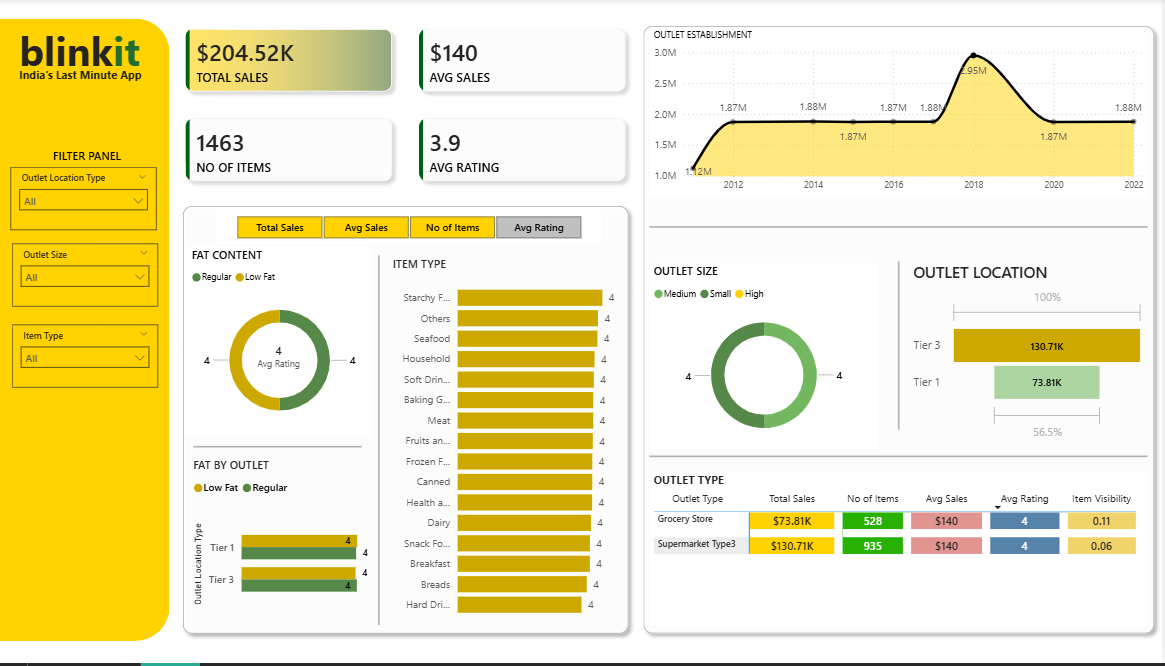

This screenshot's page, from the dashboard's own definition file:
{"tool":"powerbi","page":{"name":"Page 1","canvas":[1400,800],"ordinal":0},"visuals":[{"type":"shape","box":[0,23.9,204.3,750],"z":0},{"type":"cardVisual","fields":{"Data":["BlinkIT Grocery Data.Total Sales","BlinkIT Grocery Data.Avg Sales","BlinkIT Grocery Data.No of Items","BlinkIT Grocery Data.Avg Rating"]},"box":[211.9,23.8,554.8,209.5],"z":1000},{"type":"textbox","box":[17.4,23.9,171.3,79.7],"z":2000},{"type":"shape","box":[211.9,240.5,554.8,533.3],"z":3000},{"type":"textbox","box":[17.5,76.6,159.4,28.1],"z":4000},{"type":"slicer","fields":{"Values":["Metrics.Metrics"]},"box":[259.5,254.8,464.3,40.5],"z":5000},{"type":"donutChart","title":"FAT CONTENT","fields":{"Y":["BlinkIT Grocery Data.Avg Rating"],"Category":["BlinkIT Grocery Data.Item Fat Content"]},"box":[226.2,297.6,221.4,228.6],"z":5000,"group":"g1"},{"type":"clusteredBarChart","title":"FAT BY OUTLET","fields":{"Y":["BlinkIT Grocery Data.Avg Rating"],"Category":["BlinkIT Grocery Data.Outlet Location Type"],"Series":["BlinkIT Grocery Data.Item Fat Content"]},"box":[227.7,551.2,220.5,204.2],"z":6000},{"type":"cardVisual","fields":{"Data":["BlinkIT Grocery Data.Avg Rating"]},"box":[266.7,383.3,140.5,95.2],"z":7000,"group":"g1"},{"type":"shape","box":[233.1,509.8,202.4,59.5],"z":7000},{"type":"shape","box":[445,309.8,23.8,445.2],"z":8000},{"type":"barChart","title":"ITEM TYPE","fields":{"Y":["BlinkIT Grocery Data.Avg Rating"],"Category":["BlinkIT Grocery Data.Item Type"]},"box":[468.9,309.8,281,445.2],"z":9000},{"type":"shape","box":[766.7,23.8,633.3,750],"z":10000},{"type":"lineChart","title":"OUTLET ESTABLISHMENT","fields":{"Y":["Sum(BlinkIT Grocery Data.Outlet Establishment Year)"],"Category":["BlinkIT Grocery Data.Outlet Establishment Year"]},"box":[782.5,36.1,600,204.2],"z":11000},{"type":"shape","box":[783.3,264.3,600,21.4],"z":12000},{"type":"donutChart","title":"OUTLET SIZE","fields":{"Y":["BlinkIT Grocery Data.Avg Rating"],"Category":["BlinkIT Grocery Data.Outlet Size"]},"box":[783.3,317.5,275,225],"z":13000},{"type":"shape","box":[1077.1,317.1,11.4,202.9],"z":14000},{"type":"funnel","title":"OUTLET LOCATION","fields":{"Category":["BlinkIT Grocery Data.Outlet Location Type"],"Y":["Sum(BlinkIT Grocery Data.Sales)"]},"box":[1095.2,316.7,288.1,221.4],"z":15000},{"type":"shape","box":[783.3,540.5,600,21.4],"z":16000},{"type":"pivotTable","title":"OUTLET TYPE","fields":{"Rows":["BlinkIT Grocery Data.Outlet Type"],"Values":["BlinkIT Grocery Data.Total Sales","BlinkIT Grocery Data.No of Items","BlinkIT Grocery Data.Avg Sales","BlinkIT Grocery Data.Avg Rating","Avg(BlinkIT Grocery Data.Item Visibility)"]},"box":[783.3,569,600,185.7],"z":17000},{"type":"slicer","fields":{"Values":["BlinkIT Grocery Data.Outlet Location Type"]},"box":[11.9,202.4,176.2,76.2],"z":18000},{"type":"slicer","fields":{"Values":["BlinkIT Grocery Data.Outlet Size"]},"box":[14.3,295.2,176.2,76.2],"z":19000},{"type":"slicer","fields":{"Values":["BlinkIT Grocery Data.Item Type"]},"box":[14.3,392.9,176.2,76.2],"z":20000},{"type":"group","id":"g1","title":"Group 1","box":[226.2,297.6,221.4,228.6],"z":21000},{"type":"textbox","box":[16.7,173.8,145.2,28.6],"z":22000}]}

Visuals, with their boxes in screenshot pixels (x1, y1, x2, y2), scaled from the page's 1400x800 canvas onto the 1165x666 screenshot:
shape: [0,20,170,644]
cardVisual - BlinkIT Grocery Data.Total Sales x BlinkIT Grocery Data.Avg Sales: [176,20,638,194]
textbox: [14,20,157,86]
shape: [176,200,638,644]
textbox: [15,64,147,87]
slicer - Metrics.Metrics: [216,212,602,246]
"FAT CONTENT" donutChart: [188,248,372,438]
"FAT BY OUTLET" clusteredBarChart: [189,459,373,629]
cardVisual - BlinkIT Grocery Data.Avg Rating: [222,319,339,398]
shape: [194,424,362,474]
shape: [370,258,390,629]
"ITEM TYPE" barChart: [390,258,624,629]
shape: [638,20,1164,644]
"OUTLET ESTABLISHMENT" lineChart: [651,30,1150,200]
shape: [652,220,1151,238]
"OUTLET SIZE" donutChart: [652,264,881,452]
shape: [896,264,906,433]
"OUTLET LOCATION" funnel: [911,264,1151,448]
shape: [652,450,1151,468]
"OUTLET TYPE" pivotTable: [652,474,1151,628]
slicer - BlinkIT Grocery Data.Outlet Location Type: [10,168,157,232]
slicer - BlinkIT Grocery Data.Outlet Size: [12,246,159,309]
slicer - BlinkIT Grocery Data.Item Type: [12,327,159,391]
"Group 1" group: [188,248,372,438]
textbox: [14,145,135,168]
